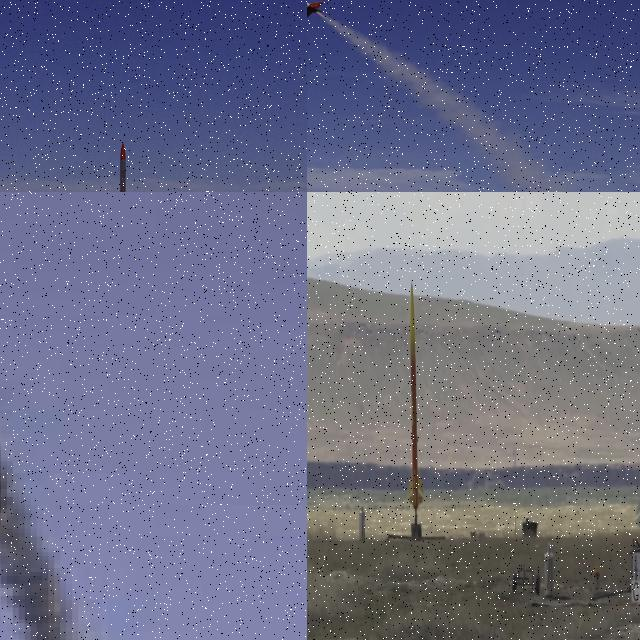Rocket: (404, 283, 423, 513), (634, 337, 640, 539), (113, 141, 128, 192)
